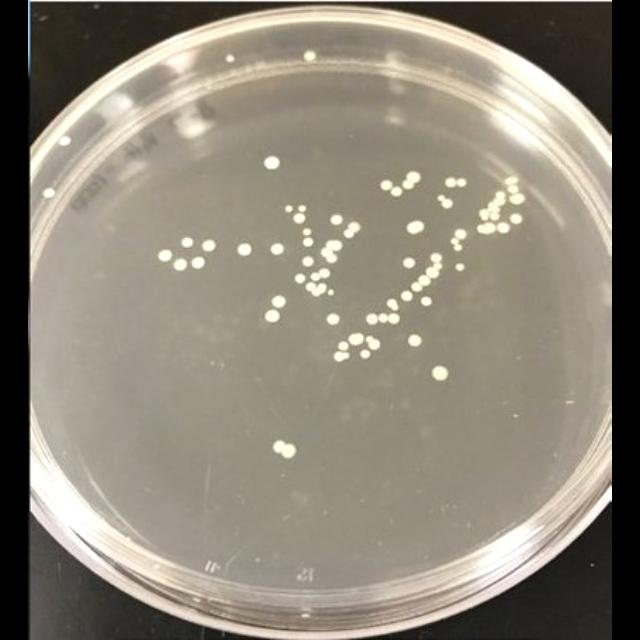colony: (408, 220, 426, 235), (282, 442, 297, 459), (478, 222, 497, 235), (349, 332, 366, 346), (312, 282, 328, 296), (510, 192, 526, 205), (409, 334, 423, 348), (407, 171, 422, 184), (433, 368, 449, 380), (327, 240, 343, 252), (273, 440, 286, 454), (367, 336, 380, 350), (266, 309, 280, 322), (203, 239, 217, 252), (324, 251, 338, 264), (272, 296, 287, 308), (266, 156, 279, 169), (159, 249, 172, 262), (238, 244, 252, 256), (173, 259, 188, 270), (390, 186, 403, 198), (293, 212, 306, 224), (494, 192, 506, 205), (336, 351, 350, 362), (510, 214, 524, 225), (348, 221, 362, 232), (388, 312, 400, 324), (498, 222, 510, 234), (193, 258, 206, 269), (419, 275, 432, 286), (404, 258, 417, 269), (380, 180, 393, 191), (304, 50, 317, 61), (328, 314, 340, 325), (272, 244, 284, 255), (442, 198, 454, 209), (303, 256, 314, 268), (296, 272, 307, 284), (182, 238, 194, 249), (479, 209, 490, 221), (427, 269, 440, 279), (430, 252, 443, 262), (59, 136, 72, 146), (367, 314, 378, 325), (403, 179, 414, 190), (332, 214, 343, 225), (360, 349, 372, 359), (388, 299, 398, 311), (306, 282, 318, 292), (44, 188, 56, 198), (507, 175, 519, 185), (344, 229, 357, 238), (422, 296, 433, 306), (402, 291, 413, 301), (456, 229, 467, 239), (490, 210, 500, 221), (458, 178, 468, 188), (447, 178, 457, 188), (320, 269, 330, 279), (489, 202, 500, 211), (339, 341, 349, 350), (414, 281, 423, 291), (303, 238, 314, 246), (310, 272, 319, 281), (510, 185, 519, 194), (226, 54, 236, 62), (379, 314, 388, 322), (434, 262, 443, 270), (455, 242, 463, 251), (303, 228, 312, 236), (322, 249, 330, 258), (457, 264, 466, 271), (286, 205, 294, 212), (328, 289, 336, 296), (300, 205, 307, 212), (454, 238, 460, 245), (439, 195, 446, 201)
